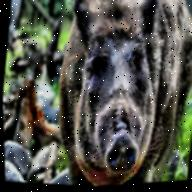boar: (32, 0, 192, 190)
